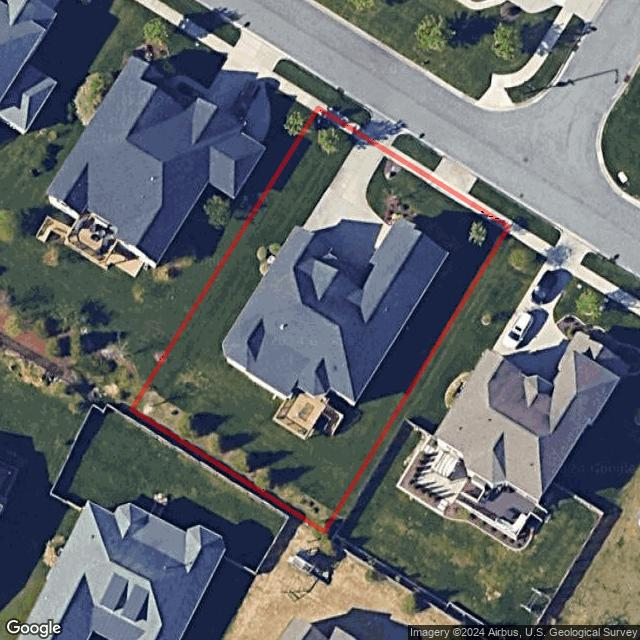Driveway: (302, 135, 393, 287)
Extra-Driveway: (360, 111, 407, 152)
Extra-Lawn: (468, 180, 523, 222), (323, 87, 374, 129), (391, 132, 443, 170)
Extra-Sidewalk: (387, 146, 514, 226), (318, 102, 363, 134)
House: (220, 219, 450, 405)
Lawn: (132, 108, 509, 532)
Other: (132, 389, 335, 532), (383, 191, 452, 252), (273, 385, 344, 440), (257, 240, 281, 275), (383, 159, 401, 181)
Sidewalk: (385, 151, 509, 231), (316, 109, 360, 139)
